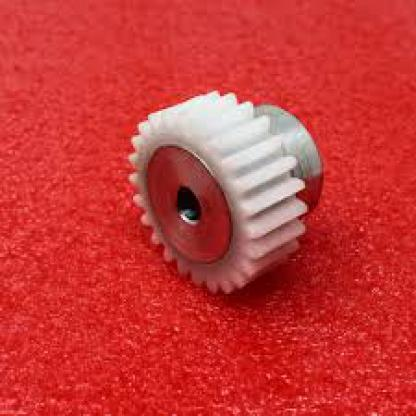FOD: (101, 81, 337, 307)
